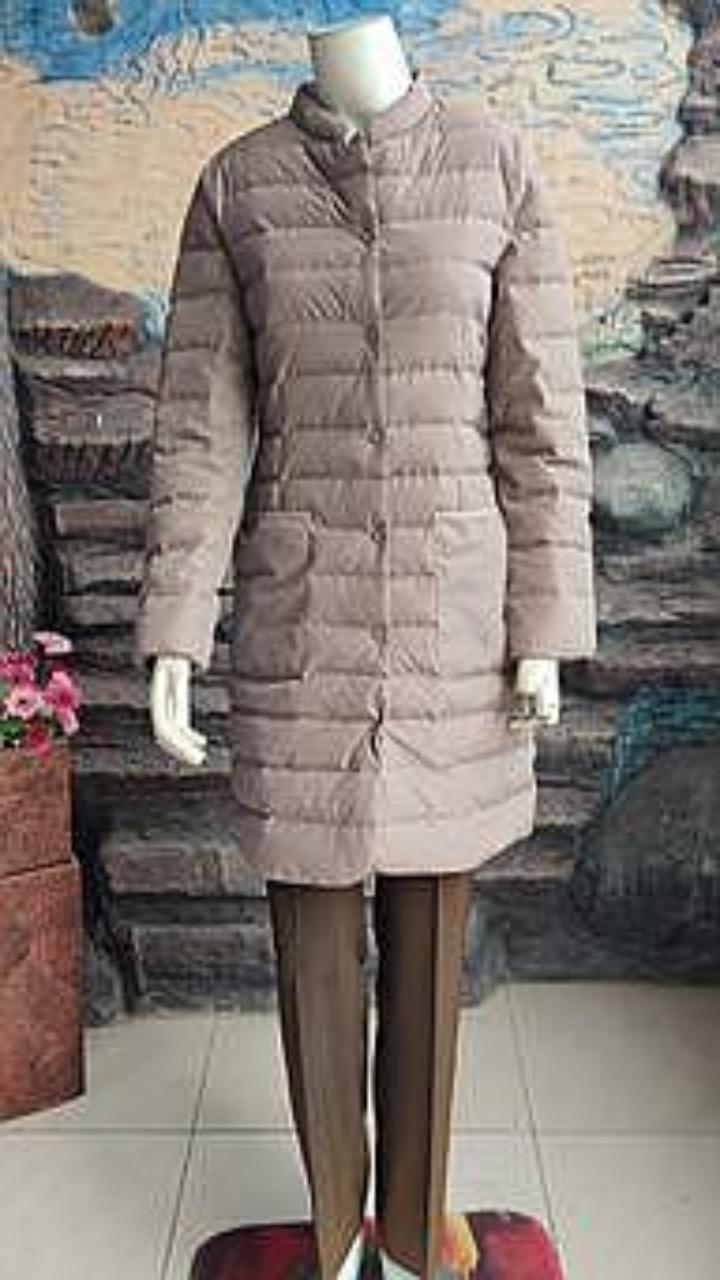Coat: (136, 69, 595, 885)
